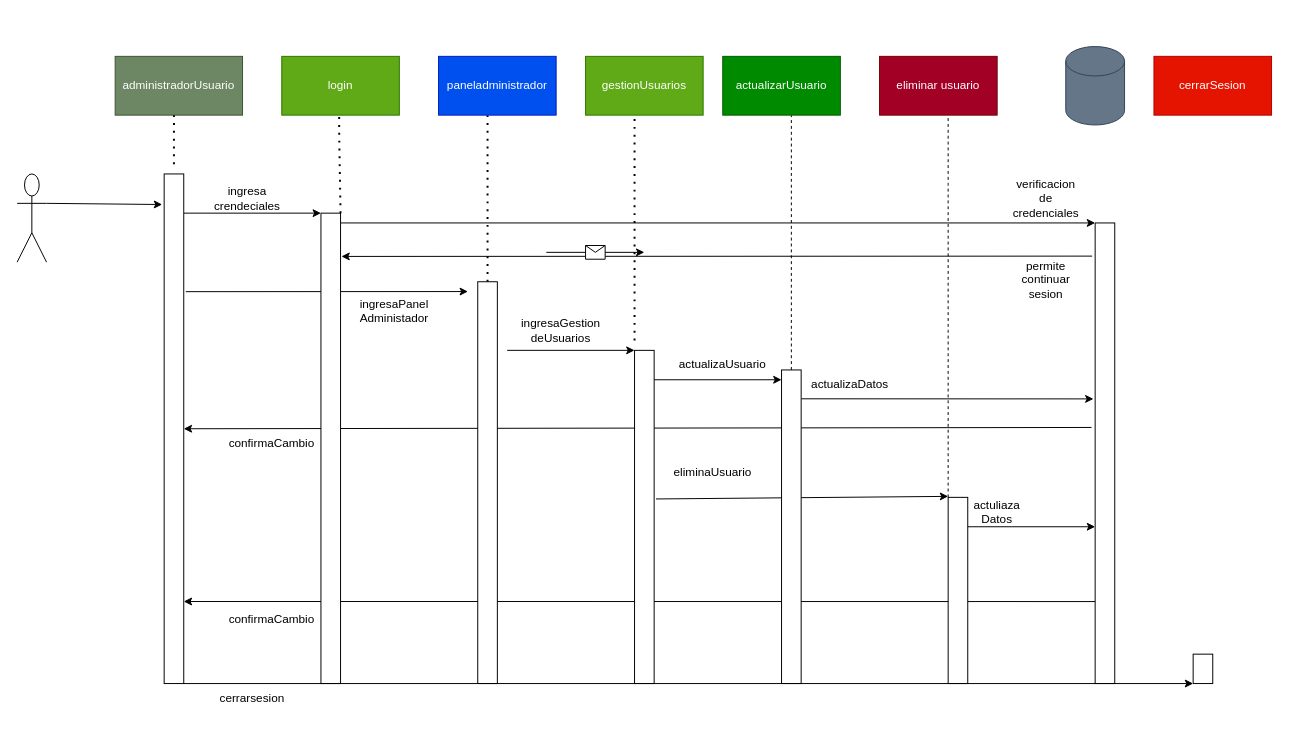
Some shapes in this 1289 by 729 pixel diagram are drawn without their labels. Here are the shapes that lost their labels. From the top down, the box of each, then its label:
(1065, 46, 1125, 125): dataBase
(16, 173, 47, 262): Actor
